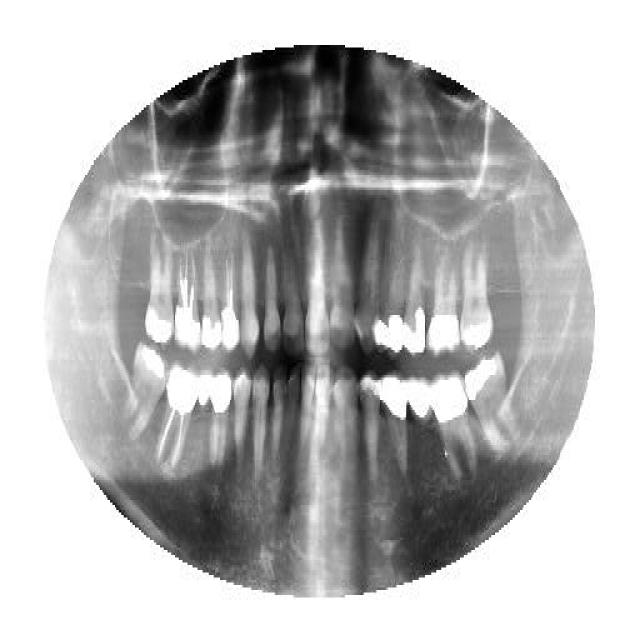Fillings: (467, 350, 522, 458), (116, 340, 172, 445), (430, 368, 476, 488), (378, 368, 408, 500), (458, 245, 492, 357), (425, 258, 460, 358), (145, 233, 176, 345), (377, 240, 402, 358), (402, 252, 427, 358), (199, 232, 221, 352), (210, 367, 232, 475), (407, 372, 432, 428), (196, 368, 212, 412), (464, 458, 465, 462)
Implant: (156, 362, 199, 472), (174, 245, 200, 355), (220, 242, 240, 352)
